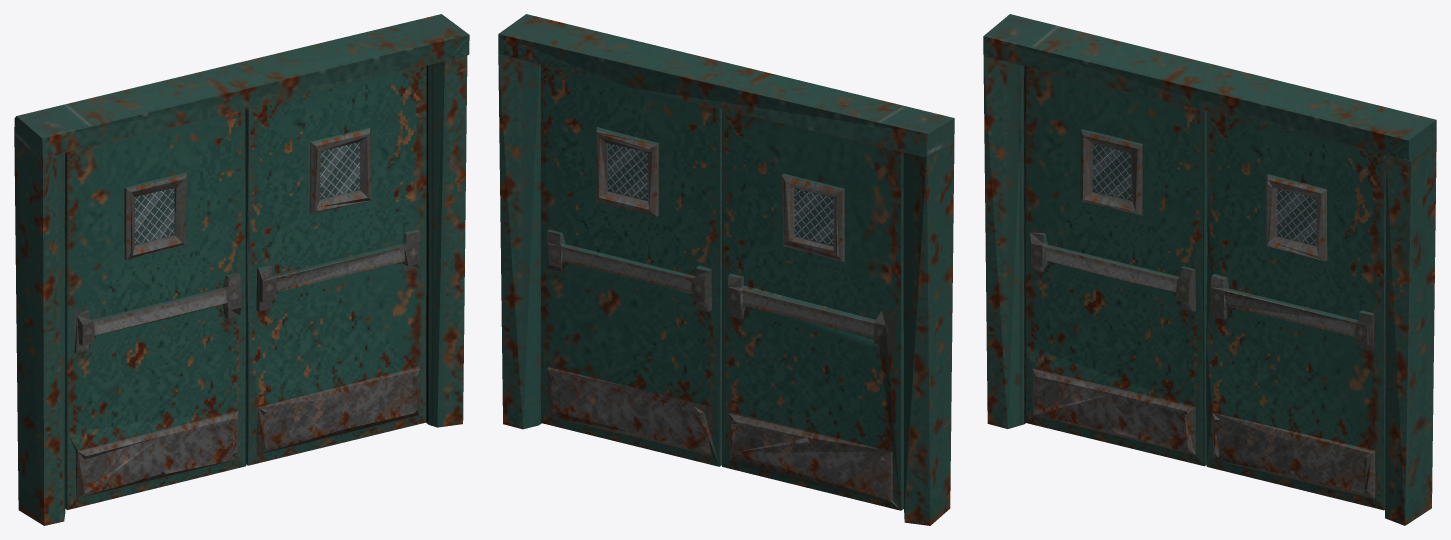
File: Meshy_AI_model.glb
3 views of the same model, side by side, from view 1: azimuth 30°, elevation 25°; view 2: azimuth 150°, elevation 25°; view 3: azimuth 330°, elevation 25° (orthographic).
Parts seen in each view (by area): view 1: output_unwrapped; view 2: output_unwrapped; view 3: output_unwrapped.
Boxes of the visible parts, <box> form: output_unwrapped: <box>14,14,469,525</box>; output_unwrapped: <box>498,14,954,525</box>; output_unwrapped: <box>983,14,1436,525</box>.
Size of the model in its own units: 1.9 by 1.67 by 0.2169.
Materials: 1 (1 with a texture image).
